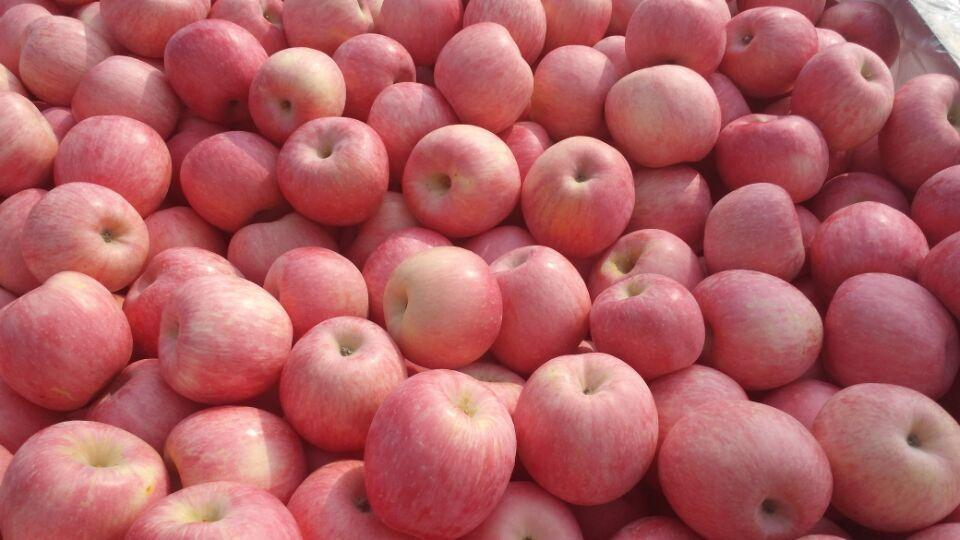apple: (358, 368, 519, 534), (661, 398, 834, 535), (512, 349, 660, 507), (812, 385, 959, 537), (1, 420, 169, 538), (1, 271, 134, 413), (151, 277, 296, 406), (819, 272, 956, 405), (382, 242, 511, 367), (694, 268, 823, 393), (162, 401, 309, 505), (21, 182, 152, 293), (274, 112, 392, 228), (518, 138, 636, 253), (51, 111, 175, 219), (602, 59, 721, 169), (402, 124, 521, 234), (177, 126, 287, 237), (715, 110, 830, 208), (808, 200, 930, 290), (791, 42, 895, 144), (436, 23, 534, 131), (247, 43, 350, 140), (163, 21, 266, 118), (718, 7, 819, 103), (704, 182, 804, 277), (876, 70, 956, 188), (71, 53, 177, 139), (536, 42, 616, 141), (1, 87, 59, 203), (625, 1, 723, 68), (375, 1, 464, 68)
